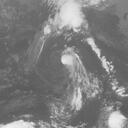cyclone: (35, 39, 94, 100)
